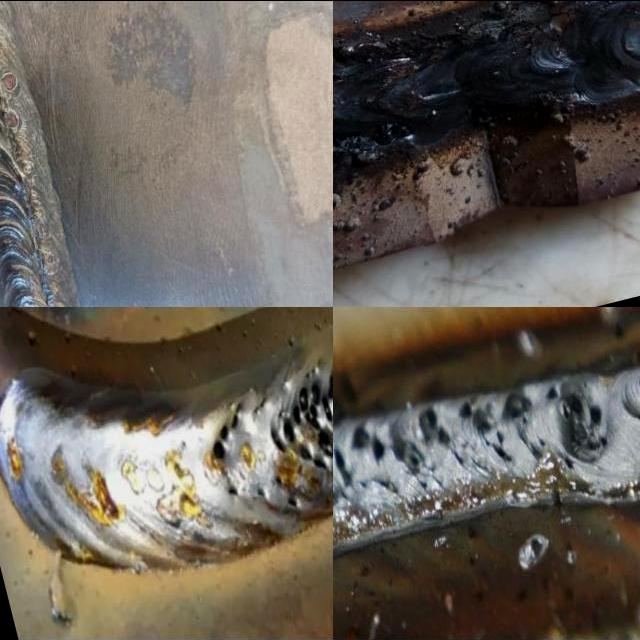defect: (348, 406, 459, 492), (266, 348, 333, 478), (542, 382, 616, 474), (457, 390, 536, 466), (207, 396, 252, 468), (333, 445, 357, 491), (333, 133, 375, 159), (371, 119, 414, 143), (1, 63, 21, 93), (30, 210, 51, 238), (2, 106, 20, 133), (37, 247, 58, 270), (226, 477, 241, 503), (286, 494, 300, 509), (256, 484, 267, 501), (275, 473, 284, 488)
